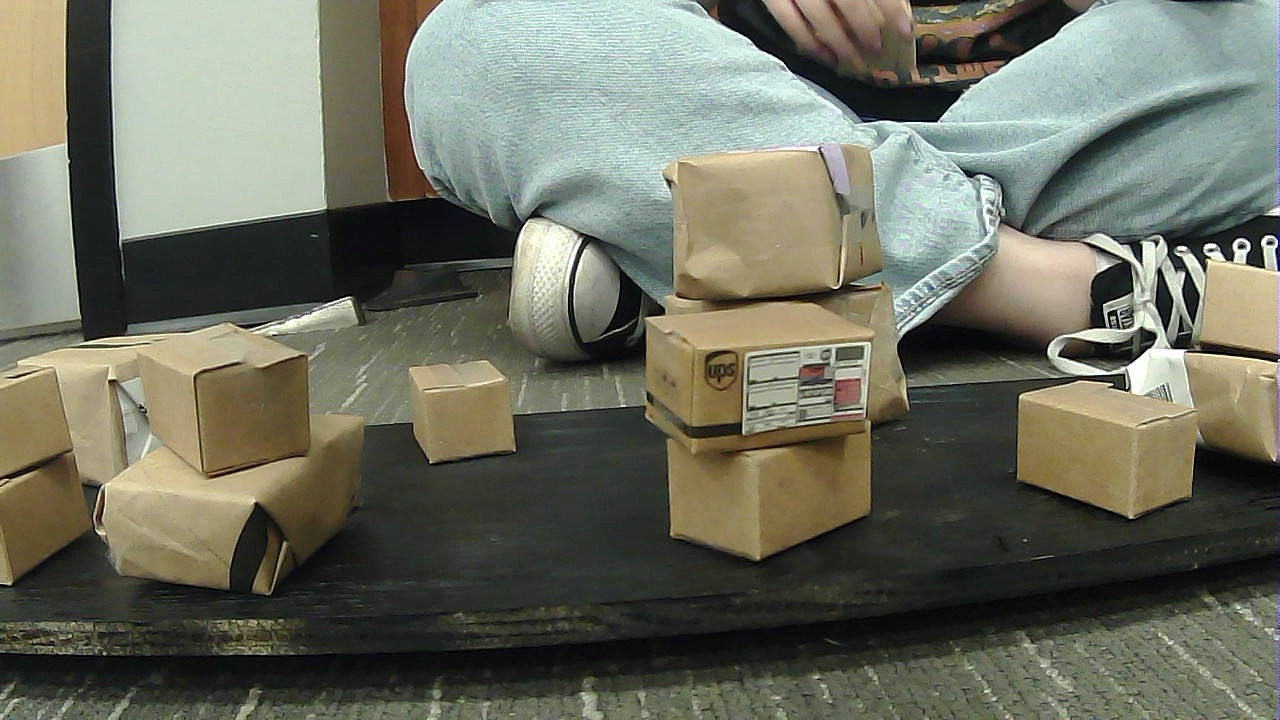package: (116, 400, 356, 598), (656, 275, 920, 435), (669, 150, 884, 297), (634, 313, 873, 445), (659, 425, 875, 562), (128, 316, 312, 476), (1008, 378, 1184, 528), (1130, 343, 1273, 477), (57, 326, 175, 472), (396, 360, 525, 473), (4, 467, 84, 583), (1189, 258, 1272, 358), (3, 361, 65, 470)
stacked: (619, 284, 888, 572), (96, 318, 363, 599), (670, 147, 916, 435), (1160, 257, 1276, 476), (3, 353, 102, 589)
